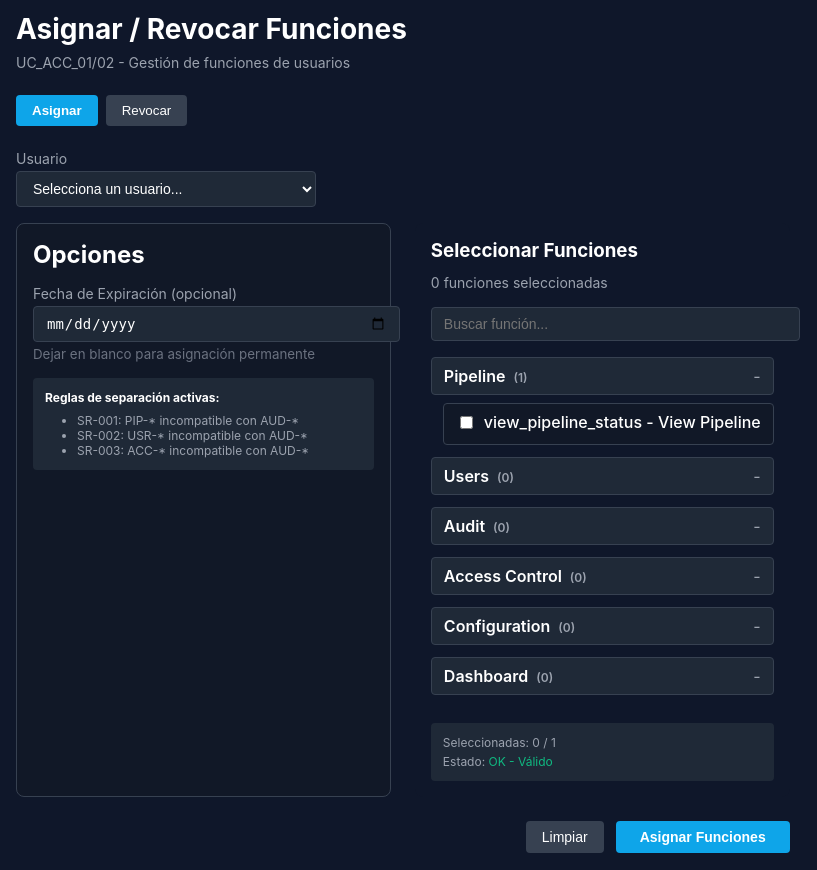
Test: AssignFunctions — Revocar tab (uc-acc-02) › shows assigned functions list when user is selected on Revocar tab
Click the tab "Revocar".
click(146, 110)  # box left=106, top=95, right=187, bottom=126
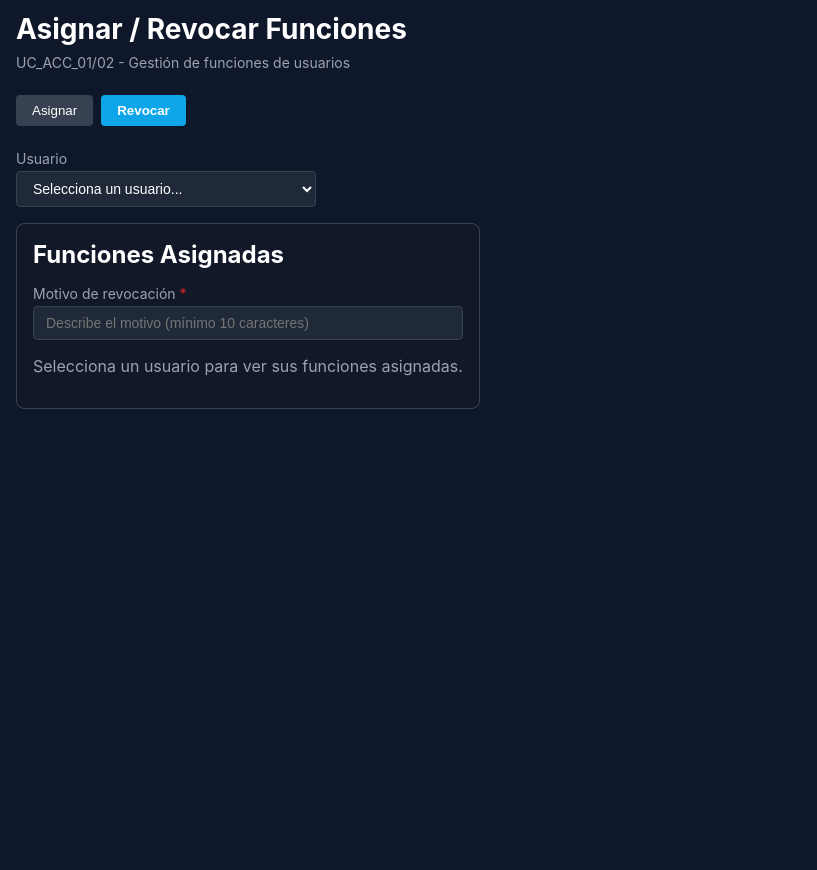
Select "user1" in the dropdown at point(166, 189), box left=16, top=171, right=316, bottom=207
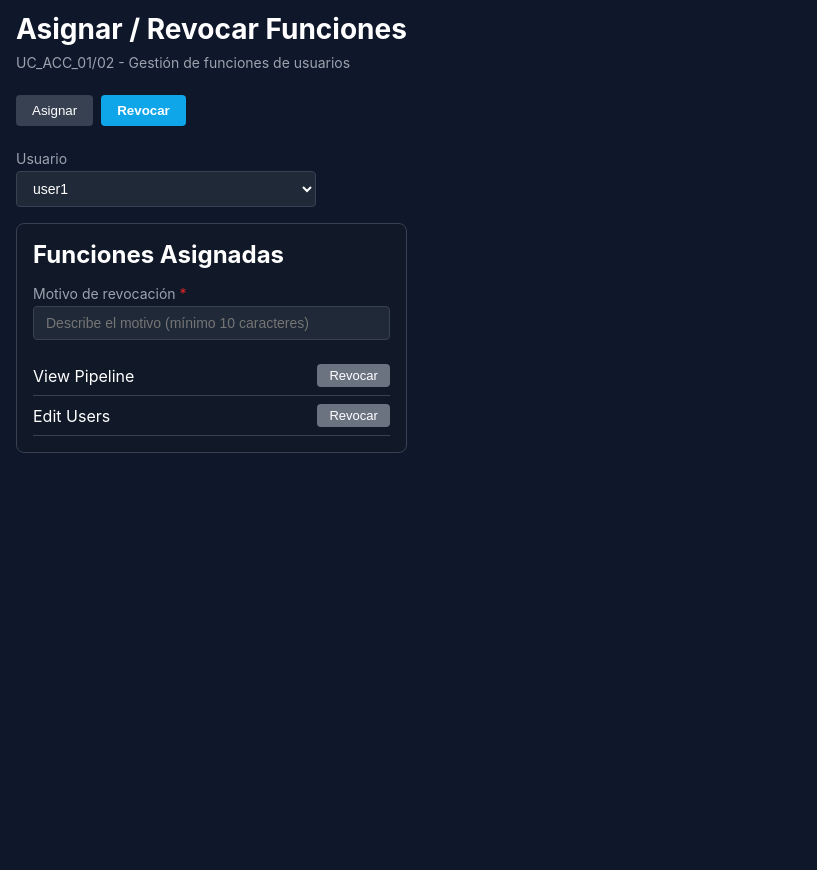
Result: the text "View Pipeline" is shown at left=33, top=366, right=134, bottom=386
Result: the text "Edit Users" is shown at left=33, top=406, right=110, bottom=426
